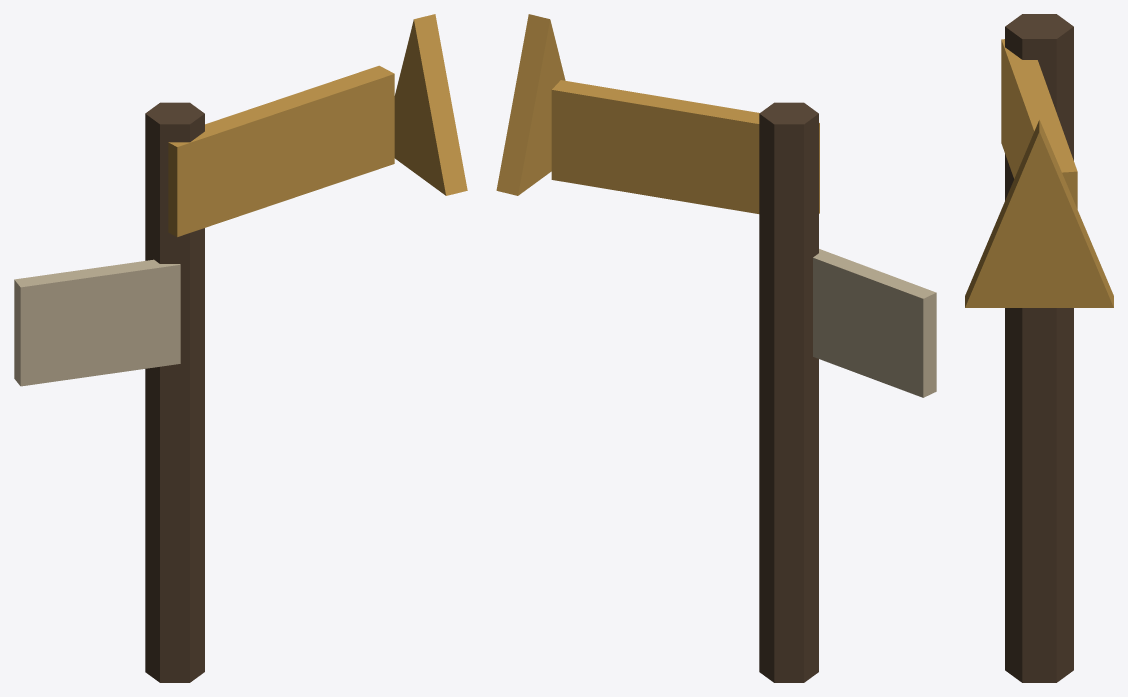
Rendered from P_ArrowMarker.glb.
3 views of the same model, side by side, from view 1: azimuth 30°, elevation 25°; view 2: azimuth 150°, elevation 25°; view 3: azimuth 270°, elevation 25° (orthographic). The views are drawn at different scales.
Visible parts, largest first — view 1: P_ArrowMarker; view 2: P_ArrowMarker; view 3: P_ArrowMarker.
Part boxes in pixels (<box>): P_ArrowMarker: <box>14,14,467,682</box>; P_ArrowMarker: <box>496,14,936,682</box>; P_ArrowMarker: <box>965,14,1113,682</box>.
Size of the model in its own units: 0.9556 by 1.32 by 0.26.
